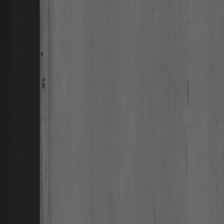inclusion: (183, 71, 191, 175), (40, 75, 46, 95), (40, 47, 44, 59)
